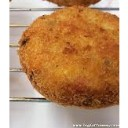cutlet: (19, 10, 122, 107)
